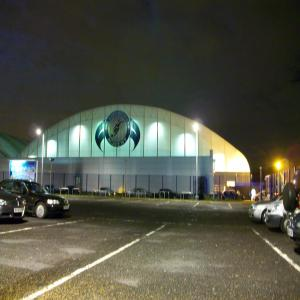Vehicle-registration-plate: (16, 208, 25, 214)
